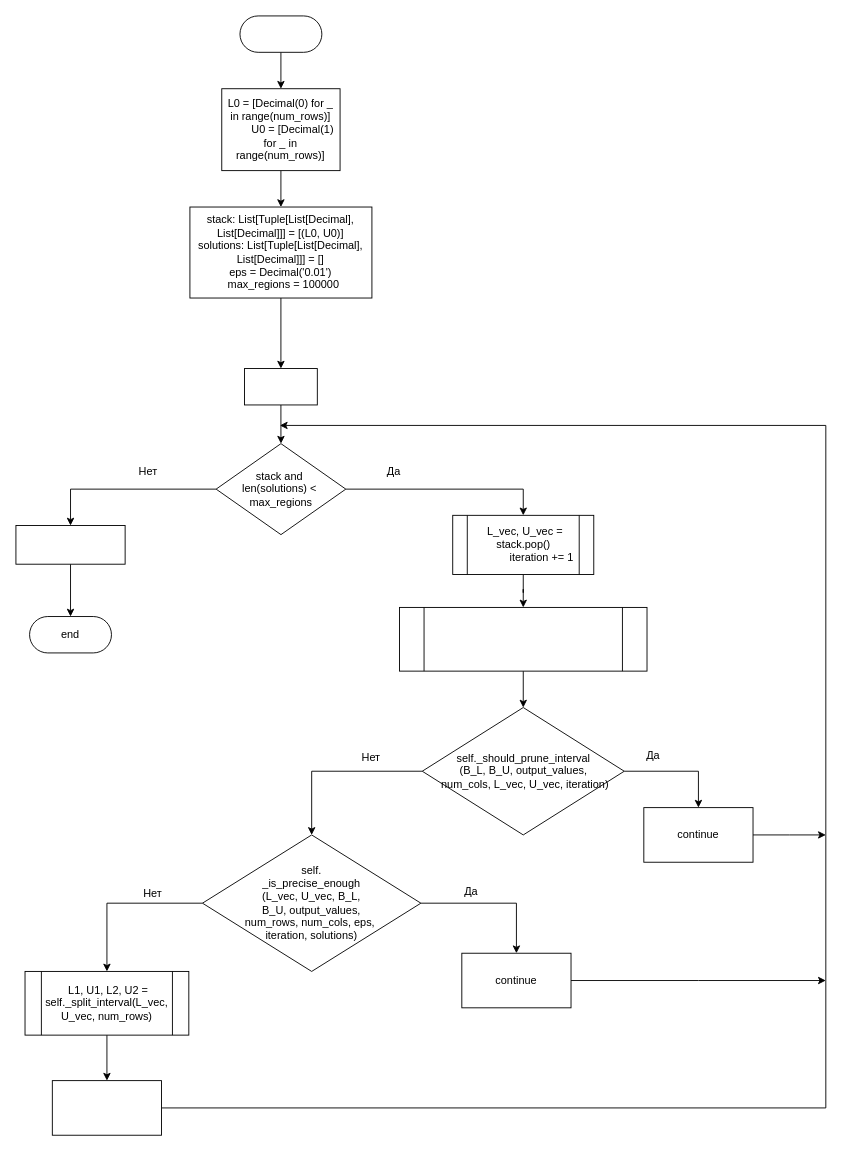
This 849x1151 diagram has some shape labels left out. The box of each missing label's shape, as (x1, y1, x2, y2) in pixels:
B_L, B_U = self._compute_forward_bounds(L_vec, U_vec, R, num_rows, num_cols): (399, 607, 647, 671)
begin: (239, 15, 322, 52)
iteration = 0: (244, 368, 317, 405)
return solutions: (15, 525, 125, 564)
stack.append((L1, U1)) stack.append((L2, U2)): (51, 1080, 162, 1135)
